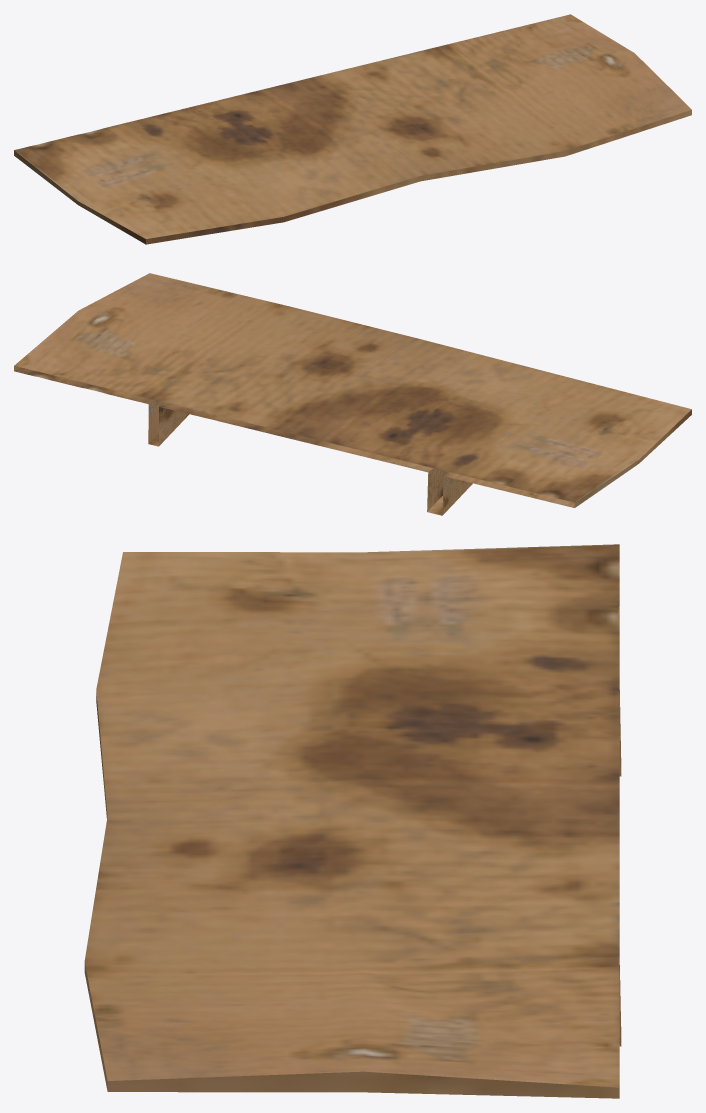
Rendered from store_shelf.fbx.
3 renders of one model, top to bottom at view 1: azimuth 30°, elevation 25°; view 2: azimuth 150°, elevation 25°; view 3: azimuth 270°, elevation 25°, orthographic. The views are drawn at different scales.
Visible parts, largest first — view 1: store_shelf; view 2: store_shelf; view 3: store_shelf.
Part boxes in pixels (left/top/right/bottom): store_shelf: left=14, top=14, right=691, bottom=244; store_shelf: left=14, top=273, right=691, bottom=515; store_shelf: left=84, top=544, right=621, bottom=1098.
Bounding box in the file's own units: 112 × 10.11 × 46.59.
1 material, 1 textured.
